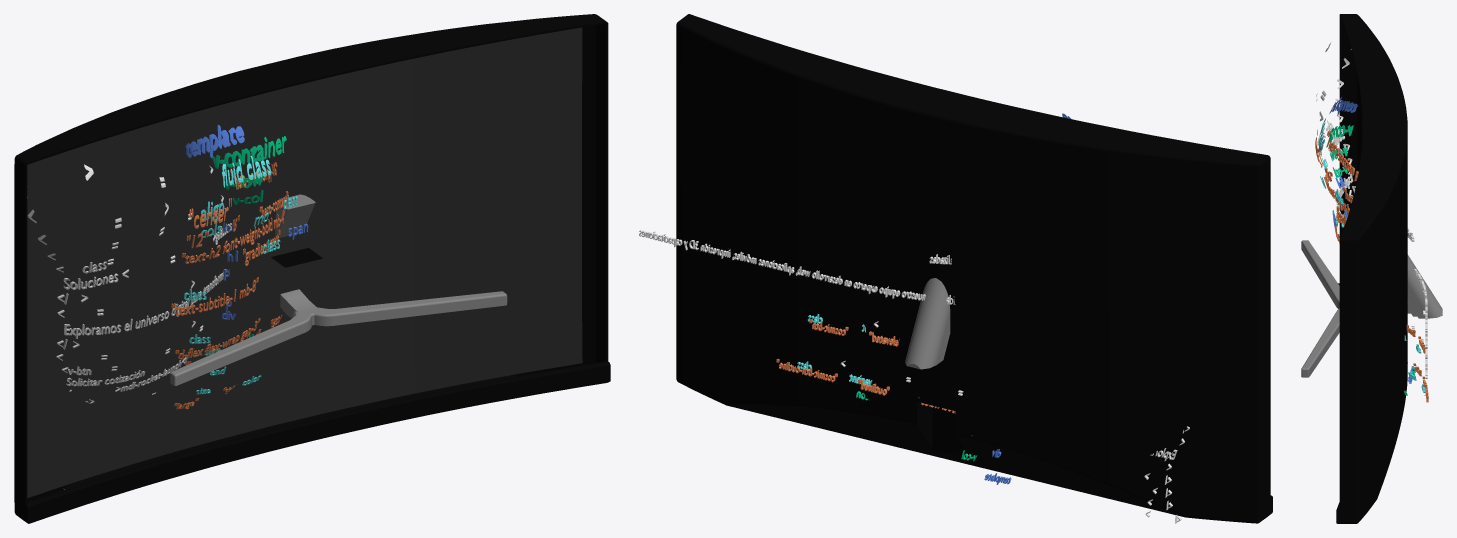
3 views of the same model, side by side, from view 1: azimuth 30°, elevation 25°; view 2: azimuth 150°, elevation 25°; view 3: azimuth 270°, elevation 25° (orthographic). The views are drawn at different scales.
Parts seen in each view (by area): view 1: Monitor_27'_Curved; view 2: Monitor_27'_Curved; view 3: Monitor_27'_Curved.
Boxes of the visible parts, <box> form: Monitor_27'_Curved: <box>14,14,610,523</box>; Monitor_27'_Curved: <box>639,14,1272,523</box>; Monitor_27'_Curved: <box>1301,14,1442,523</box>.
Bounding box in the file's own units: 6888 × 4070 × 1827.
